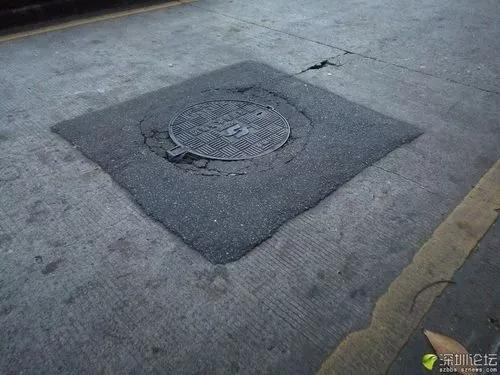wellcover: (150, 88, 301, 175)
